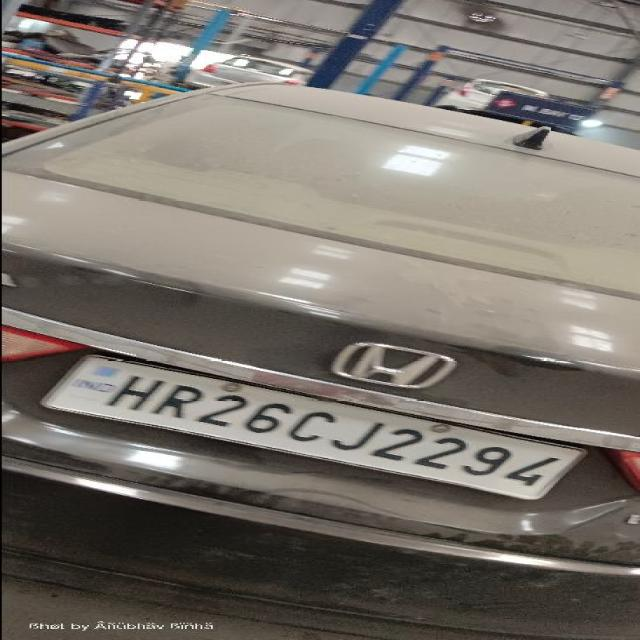license_plate: (37, 352, 590, 500)
